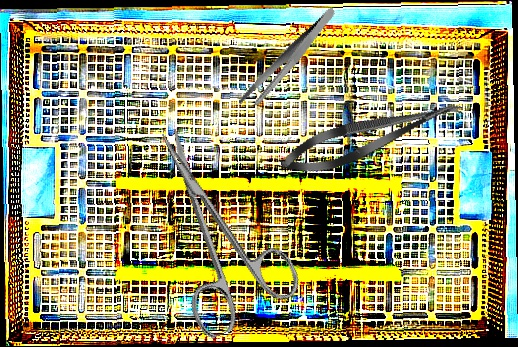Dressing Forceps: (221, 6, 356, 113)
Iris Scissors: (120, 106, 309, 343)
Micro Scissor: (275, 88, 468, 184)
